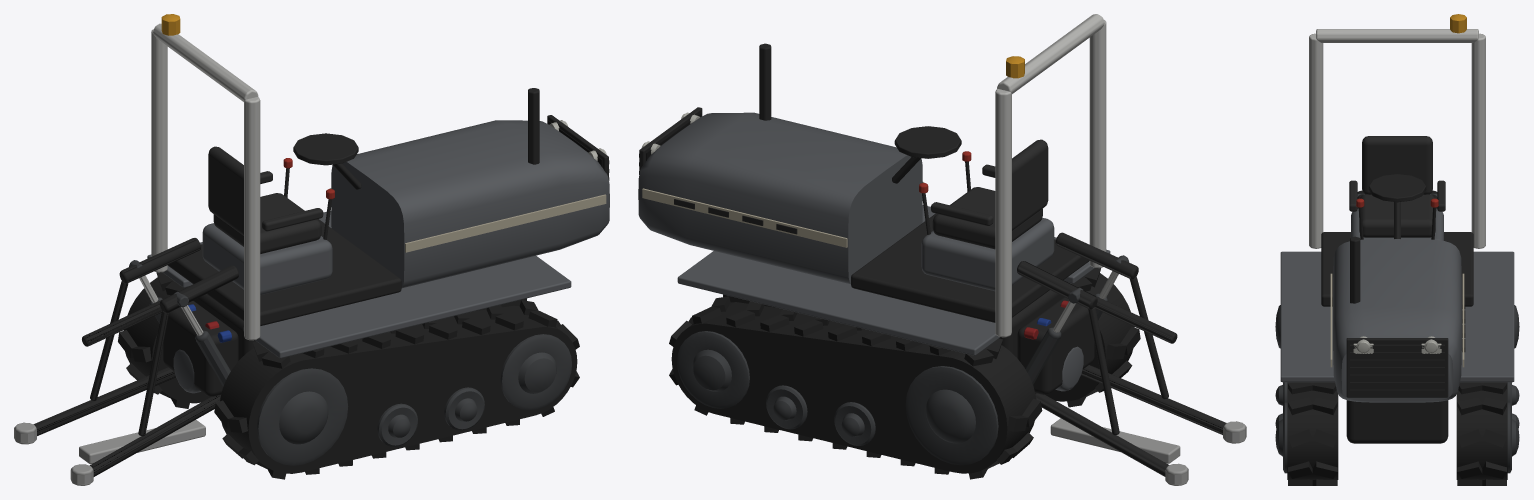
Rendered from SM_Prop_farm_crawler_2.glb.
The picture shows the model from 3 angles, left to right: view 1: azimuth 30°, elevation 25°; view 2: azimuth 150°, elevation 25°; view 3: azimuth 270°, elevation 25°; orthographic projection. The views are drawn at different scales.
Visible parts, largest first — view 1: SM_Prop_farm_crawler_2; view 2: SM_Prop_farm_crawler_2; view 3: SM_Prop_farm_crawler_2.
Part boxes in pixels (x1,y1,x2,y2): SM_Prop_farm_crawler_2: (14,14,609,485); SM_Prop_farm_crawler_2: (638,14,1246,485); SM_Prop_farm_crawler_2: (1275,14,1519,485).
Size of the model in its own units: 3.25 by 2.3 by 1.44.
